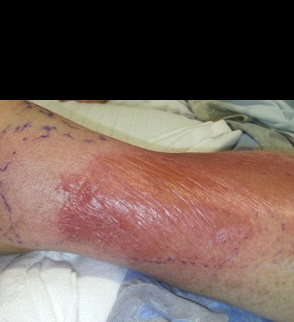SJS-TEN: (0, 93, 294, 322)
